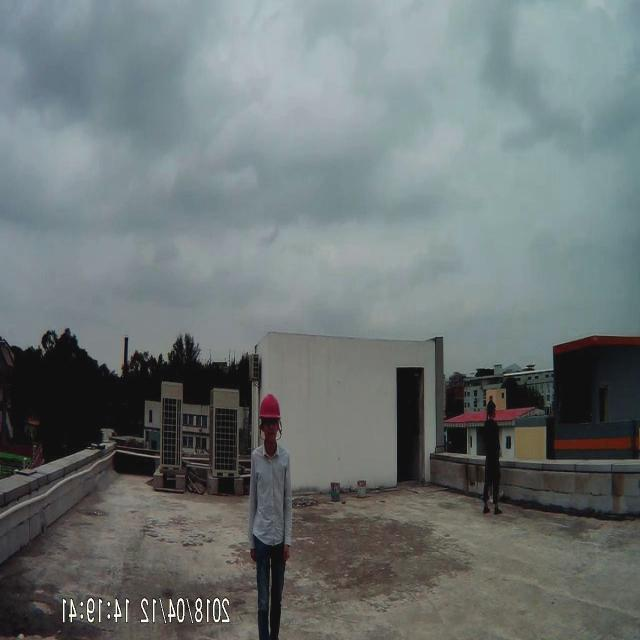face_nomask: (262, 418, 282, 443)
hand_noglove: (278, 544, 296, 566), (249, 540, 257, 564)
head_helmet: (258, 394, 282, 422)
head_nohelmet: (484, 394, 498, 418)
person: (246, 390, 292, 636), (481, 399, 499, 511)
